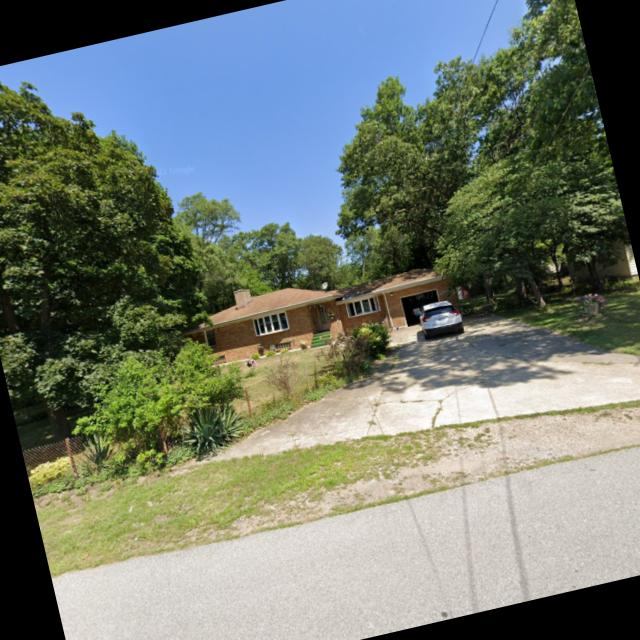House: (175, 242, 464, 378), (558, 226, 640, 296)
